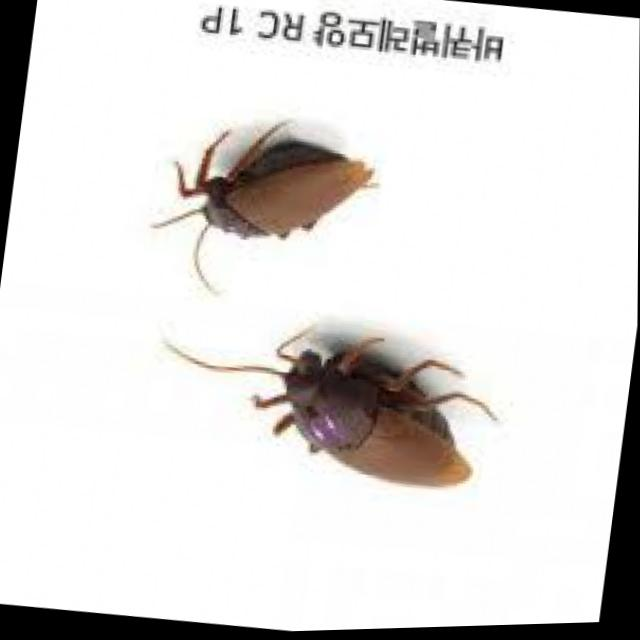Cockroach: (155, 284, 520, 539), (134, 85, 393, 318)
